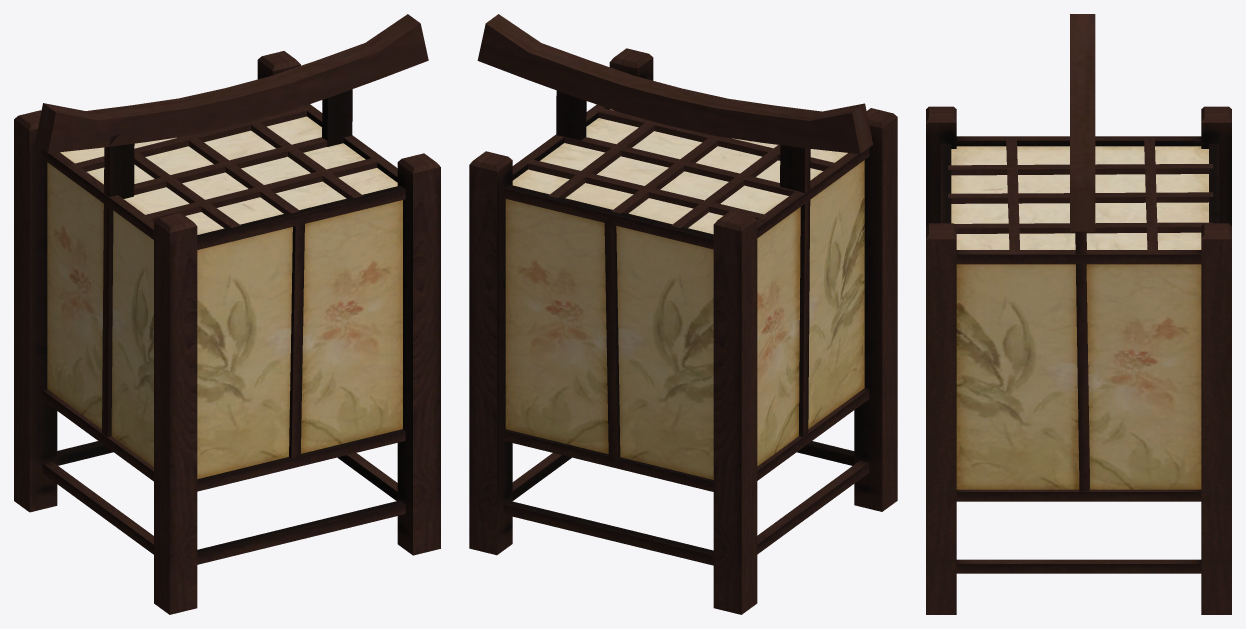
File: Lantern5.c.fbx
The picture shows the model from 3 angles, left to right: view 1: azimuth 30°, elevation 25°; view 2: azimuth 150°, elevation 25°; view 3: azimuth 270°, elevation 25°; orthographic projection. The views are drawn at different scales.
Visible parts, largest first — view 1: Group 0; view 2: Group 0; view 3: Group 0.
Boxes of the visible parts, x1,y1,x2,y2 form: Group 0: (14,14,440,614); Group 0: (469,14,897,614); Group 0: (926,14,1231,614).
Size of the model in its own units: 31.66 by 36.45 by 22.39.
Materials: 2 (2 with a texture image).
